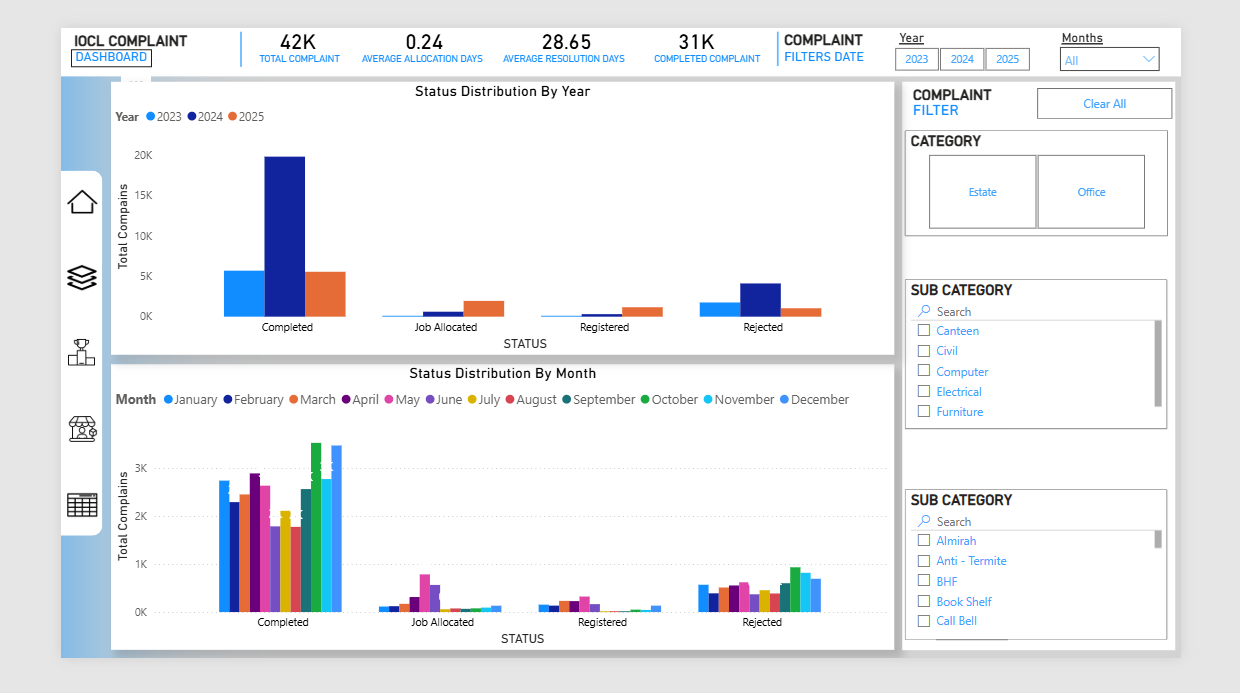

Layout of this report page (visuals, bound fields, positions):
{"tool":"powerbi","page":{"name":" Overview","canvas":[1280,720],"ordinal":0},"visuals":[{"type":"shape","box":[0,0,1280,55.4],"z":0},{"type":"card","fields":{"Values":["Complaints.Total Complaints"]},"box":[176.6,0,187.8,29.1],"z":1000},{"type":"shape","box":[962,61.6,312.1,649.9],"z":1000,"group":"g1"},{"type":"slicer","fields":{"Values":["Complaints.COMPLAINT_DATE.Variation.Date Hierarchy.Year"]},"box":[927.8,16,203.8,37.6],"z":2000},{"type":"clusteredColumnChart","title":"Status Distribution By Month","fields":{"Y":["Complaints.Total Complaints"],"Category":["Complaints.CURRENT_STATUS_TEXT"],"Series":["Complaints.COMPLAINT_DATE.Variation.Date Hierarchy.Month"]},"box":[57.8,384.4,895.6,326.7],"z":3000},{"type":"textbox","title":"TOTAL COMPLAINT","box":[221.6,29.1,116.4,19.7],"z":4000},{"type":"slicer","title":"CATEGORY","fields":{"Values":["Complaints.COMPLAINT_CATEGORY"]},"box":[965.4,117.4,300.5,121.1],"z":4000,"group":"g1"},{"type":"card","fields":{"Values":["Complaints.Average Allocation Days"]},"box":[322.1,0,187.8,29.1],"z":5000},{"type":"slicer","title":"SUB CATEGORY","fields":{"Values":["Complaints.COMPLAINT_SUB_CATEGORY"]},"box":[965.4,287.3,300.1,171],"z":5000,"group":"g1"},{"type":"textbox","title":"AVERAGE ALLOCATION DAYS","box":[338.1,29.1,155.9,19.7],"z":6000},{"type":"slicer","title":"SUB CATEGORY","fields":{"Values":["Complaints.COMPLAINT_SUB_SUB_CATEGORY"]},"box":[965.4,526.8,300.1,171.9],"z":6000,"group":"g1"},{"type":"card","fields":{"Values":["Complaints.Average Resolution Days"]},"box":[484.6,0,187.8,29.1],"z":7000},{"type":"textbox","title":"COMPLAINT ","box":[969.2,65.8,101.4,17.8],"z":7000,"group":"g1"},{"type":"textbox","title":"AVERAGE RESOLUTION DAYS","box":[500.5,29.1,155.9,19.7],"z":8000},{"type":"textbox","title":"FILTER ","box":[969.2,83.6,108.9,20.7],"z":8000,"group":"g1"},{"type":"card","fields":{"Values":["Complaints.Completed Complaints"]},"box":[644.2,0,164.3,29.1],"z":9000},{"type":"textbox","title":"COMPLETED COMPLAINT","box":[672.4,29.1,136.2,19.7],"z":10000},{"type":"textbox","title":"IOCL COMPLAINT","box":[10.3,4.7,142.7,19.7],"z":11000},{"type":"shape","box":[0,162.5,47.5,417.5],"z":11000,"group":"g2"},{"type":"textbox","title":"DASHBOARD","box":[12,24.8,92.4,19.7],"z":12000},{"type":"shape","box":[726.9,4.7,184.1,39.4],"z":13000},{"type":"shape","box":[115.6,4.4,180,40],"z":14000},{"type":"slicer","fields":{"Values":["Complaints.COMPLAINT_DATE.Variation.Date Hierarchy.Month"]},"box":[1131.6,11.3,134.3,42.3],"z":15000},{"type":"textbox","title":"Months","box":[1138.2,2.8,61,16],"z":16000},{"type":"textbox","title":"Year","box":[953.2,2.8,61,16],"z":17000},{"type":"textbox","title":"COMPLAINT","box":[821.7,2.8,106.1,24.4],"z":18000},{"type":"textbox","title":"FILTERS DATE","box":[821.7,24.4,106.1,19.7],"z":19000},{"type":"group","id":"g1","title":"Group 1","box":[962,61.6,312.1,649.9],"z":20000},{"type":"clusteredColumnChart","title":"Status Distribution By Year","fields":{"Y":["Complaints.Total Complaints"],"Category":["Complaints.CURRENT_STATUS_TEXT"],"Series":["Complaints.COMPLAINT_DATE.Variation.Date Hierarchy.Year"]},"box":[57.8,61.1,895.6,312.2],"z":21000},{"type":"group","id":"g2","title":"Group 2","box":[0,162.5,47.5,417.5],"z":22000},{"type":"actionButton","box":[1115.6,68.9,154.4,35.6],"z":23000},{"type":"actionButton","box":[7.1,182.9,34.3,31.4],"z":23000,"group":"g2"},{"type":"actionButton","box":[6.7,267.6,33.3,33.3],"z":24000,"group":"g2"},{"type":"actionButton","box":[6.7,354.2,33,33],"z":25000,"group":"g2"},{"type":"actionButton","box":[8.7,440.5,32.7,33.3],"z":26000,"group":"g2"},{"type":"actionButton","box":[7.1,527.1,34.3,35.7],"z":27000,"group":"g2"}]}

Visuals, with their boxes on the page's 1280x720 design canvas (x1, y1, x2, y2). These are canvas units, not pixel positions in the 1240x693 screenshot, which may show the page scaled, cropped or inside an application window:
shape: 0 0 1280 55
card - Complaints.Total Complaints: 177 0 364 29
shape: 962 62 1274 712
slicer - Complaints.COMPLAINT_DATE.Variation.Date Hierarchy.Year: 928 16 1132 54
"Status Distribution By Month" clusteredColumnChart: 58 384 953 711
"TOTAL COMPLAINT" textbox: 222 29 338 49
"CATEGORY" slicer: 965 117 1266 238
card - Complaints.Average Allocation Days: 322 0 510 29
"SUB CATEGORY" slicer: 965 287 1266 458
"AVERAGE ALLOCATION DAYS" textbox: 338 29 494 49
"SUB CATEGORY" slicer: 965 527 1266 699
card - Complaints.Average Resolution Days: 485 0 672 29
"COMPLAINT " textbox: 969 66 1071 84
"AVERAGE RESOLUTION DAYS" textbox: 500 29 656 49
"FILTER " textbox: 969 84 1078 104
card - Complaints.Completed Complaints: 644 0 808 29
"COMPLETED COMPLAINT" textbox: 672 29 809 49
"IOCL COMPLAINT" textbox: 10 5 153 24
shape: 0 162 48 580
"DASHBOARD" textbox: 12 25 104 44
shape: 727 5 911 44
shape: 116 4 296 44
slicer - Complaints.COMPLAINT_DATE.Variation.Date Hierarchy.Month: 1132 11 1266 54
"Months" textbox: 1138 3 1199 19
"Year" textbox: 953 3 1014 19
"COMPLAINT" textbox: 822 3 928 27
"FILTERS DATE" textbox: 822 24 928 44
"Group 1" group: 962 62 1274 712
"Status Distribution By Year" clusteredColumnChart: 58 61 953 373
"Group 2" group: 0 162 48 580
actionButton: 1116 69 1270 104
actionButton: 7 183 41 214
actionButton: 7 268 40 301
actionButton: 7 354 40 387
actionButton: 9 440 41 474
actionButton: 7 527 41 563
